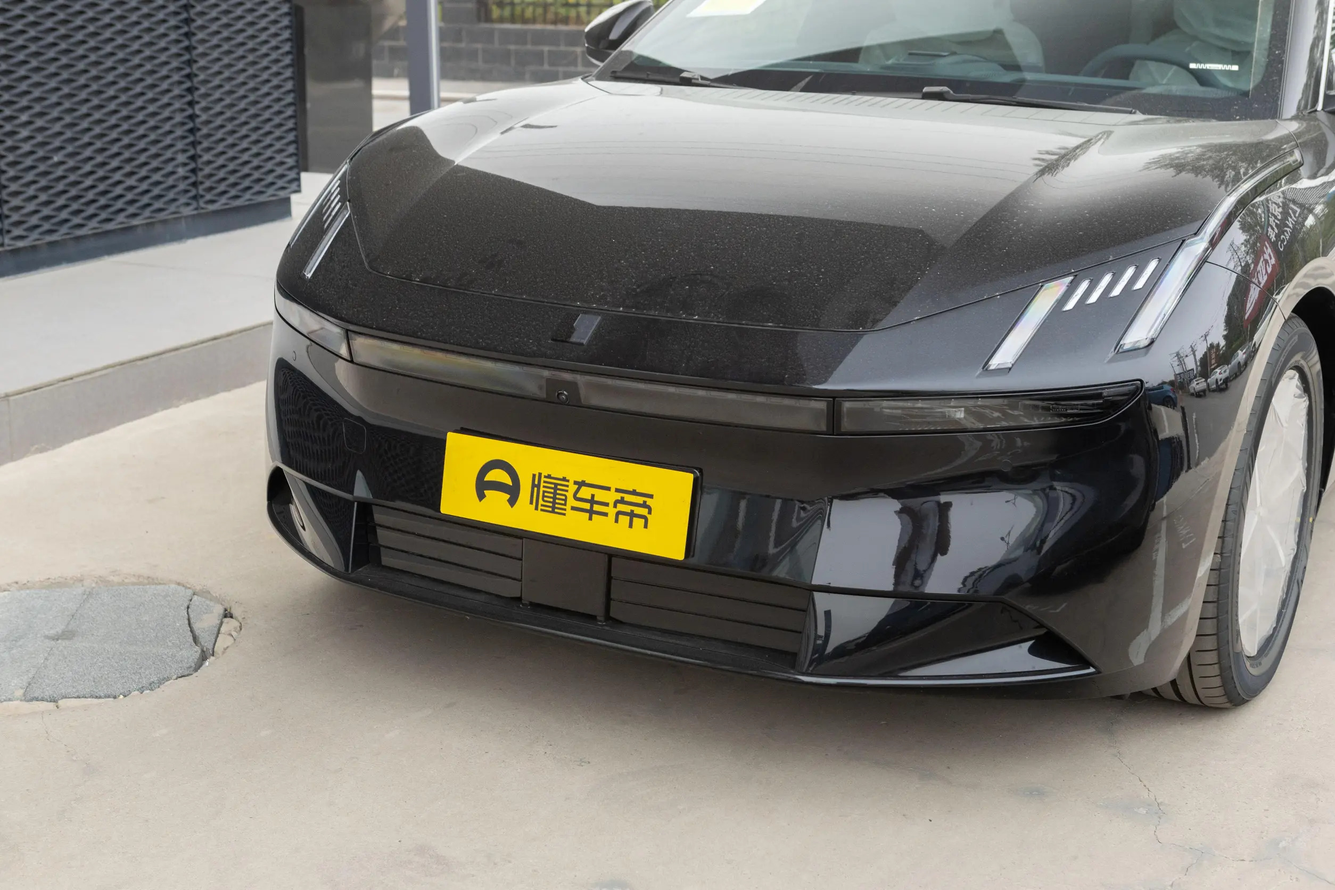LINK&CO: (551, 311, 600, 345)
